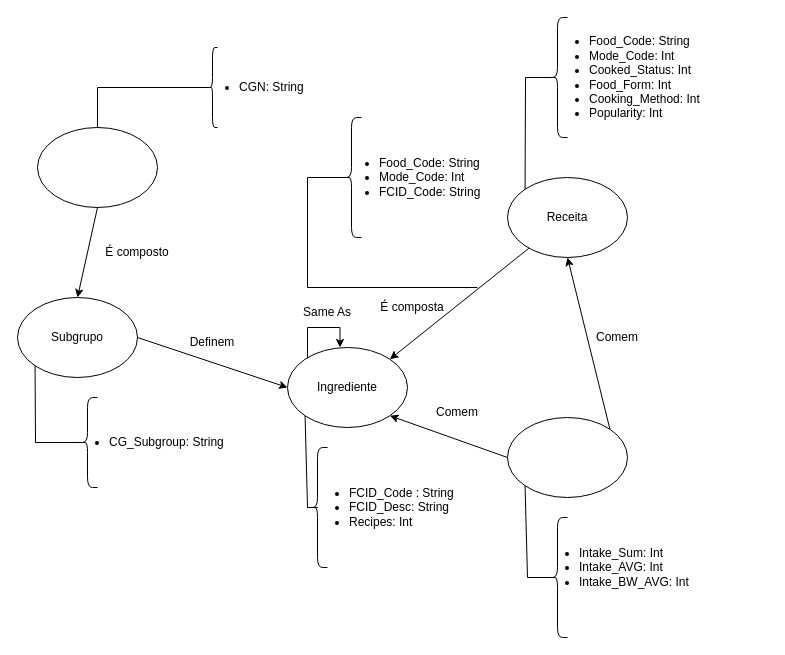
Some shapes in this 785 by 655 pixel diagram are drawn without their labels. Each missing label, with the centre of its shape:
Grupo: [97,167]
Pessoa: [567,457]
